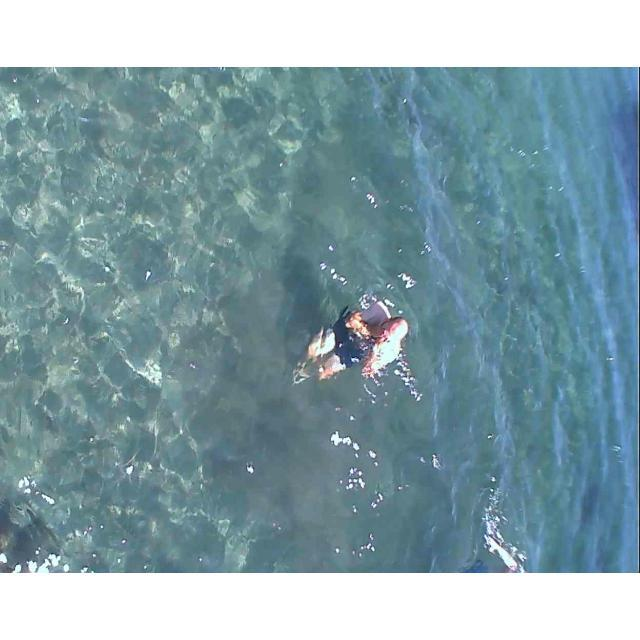human: (312, 279, 404, 388)
